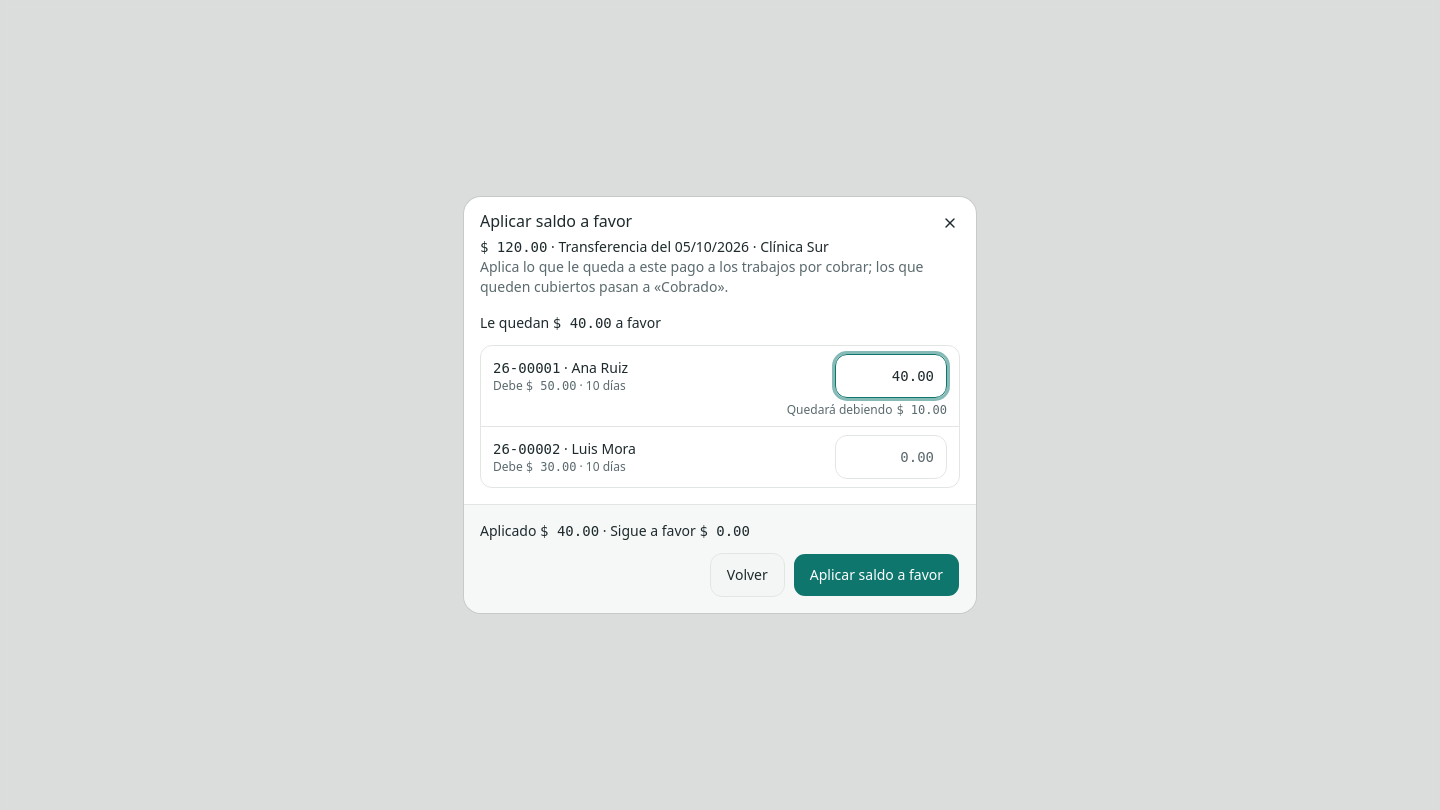
Scenario: ApplyCreditDialog («Aplicar saldo a favor» de un pago, CTA-2) › pide al menos un trabajo y no deja pasar de lo que queda a favor
Clear the field labelled "26-00001 · Ana Ruiz Debe $ 50.00 · 10 días" at (891, 376), box [835,354,947,398]
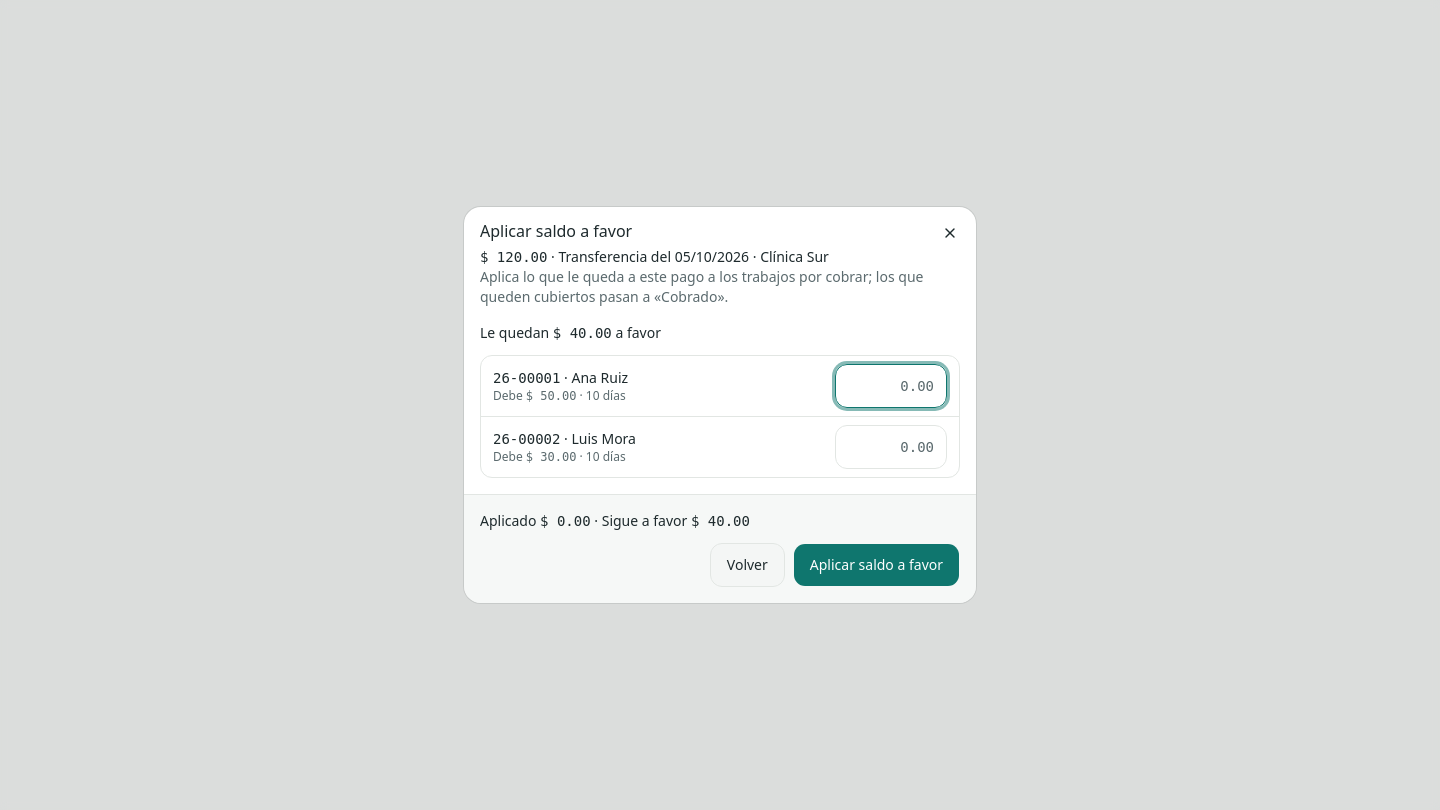
Click the button "Aplicar saldo a favor" at (876, 565), box [793,543,960,587]
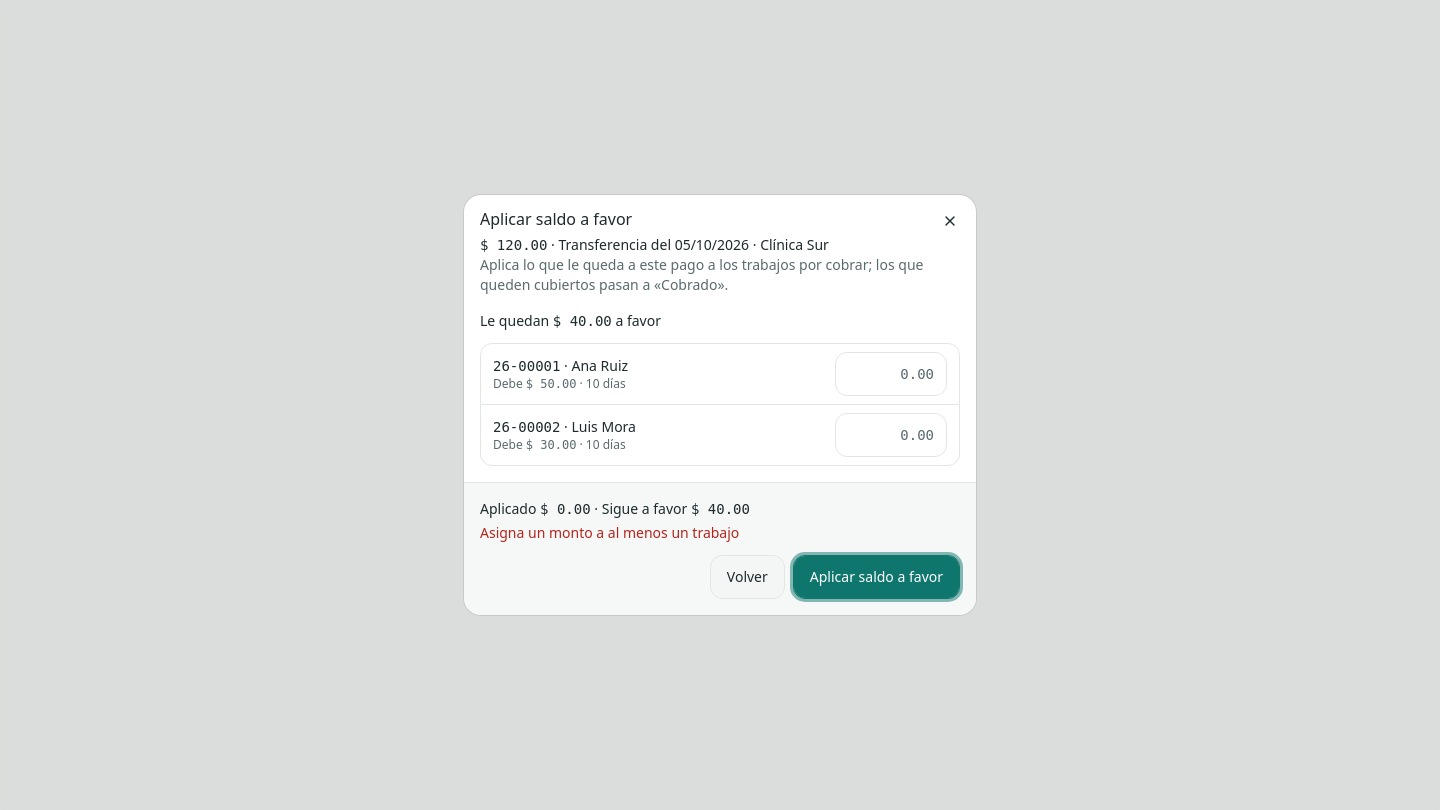
Check: the text "Asigna un monto a al menos un trabajo" is shown, box [480,523,739,542]
Type "41" into the field labelled "26-00001 · Ana Ruiz Debe $ 50.00 · 10 días" at (891, 374), box [835,352,947,396]
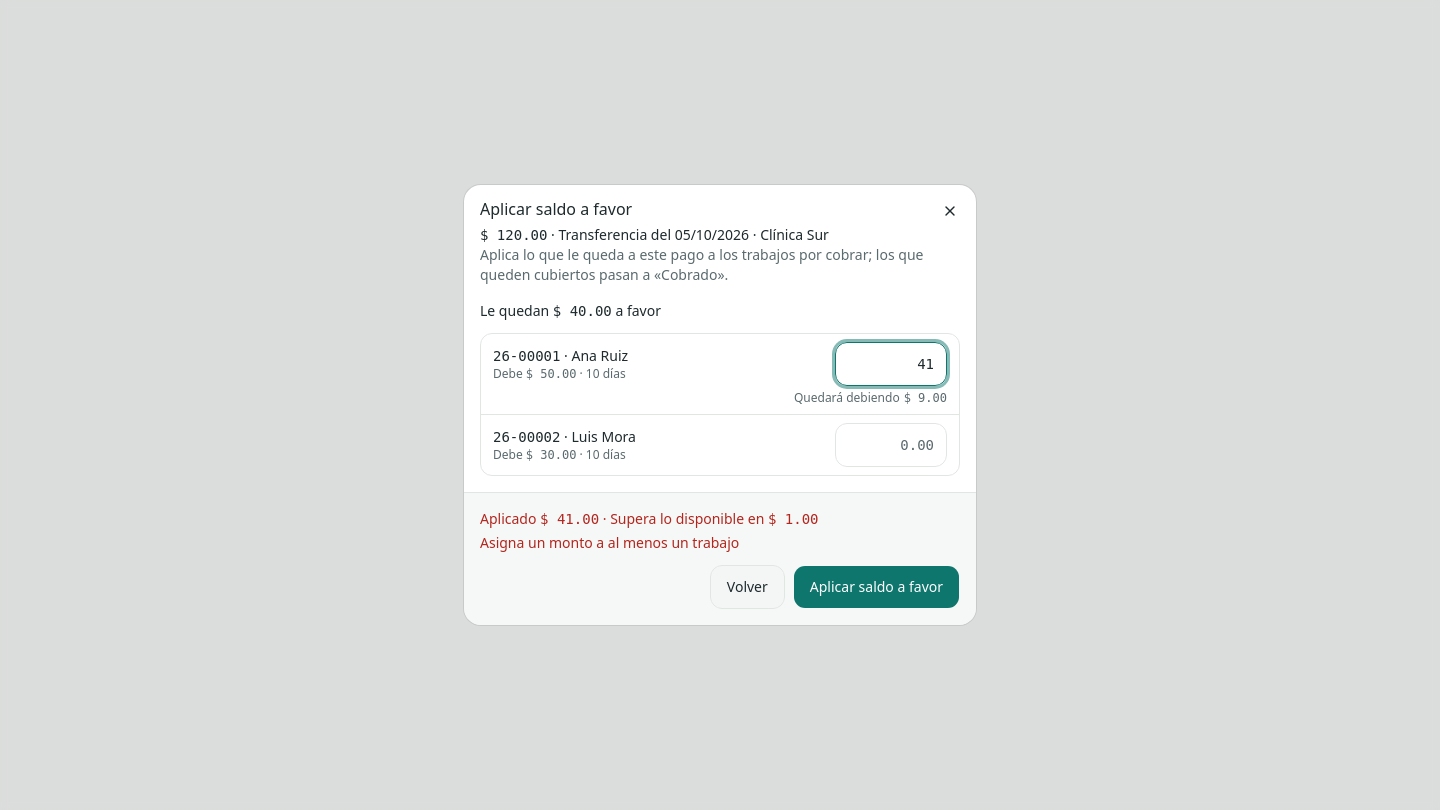
Check: the message "Aplicado $ 41.00 · Supera lo disponible en $ 1.00" is shown, box [480,509,818,528]
Click the button "Aplicar saldo a favor" at (876, 587), box [793,565,960,609]
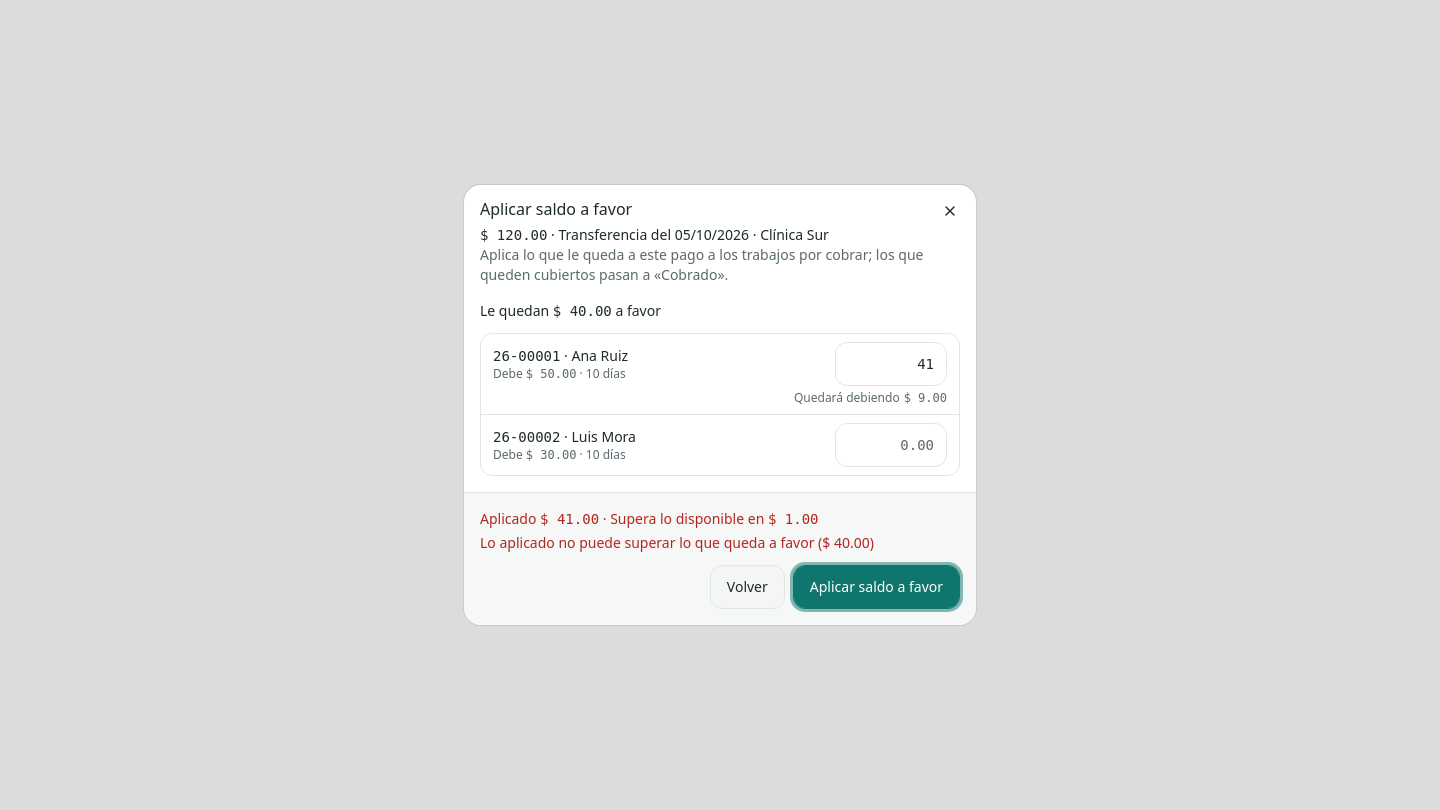
Check: the text "Lo aplicado no puede superar lo que queda a favor ($ 40.00)" is shown, box [480,533,874,552]
